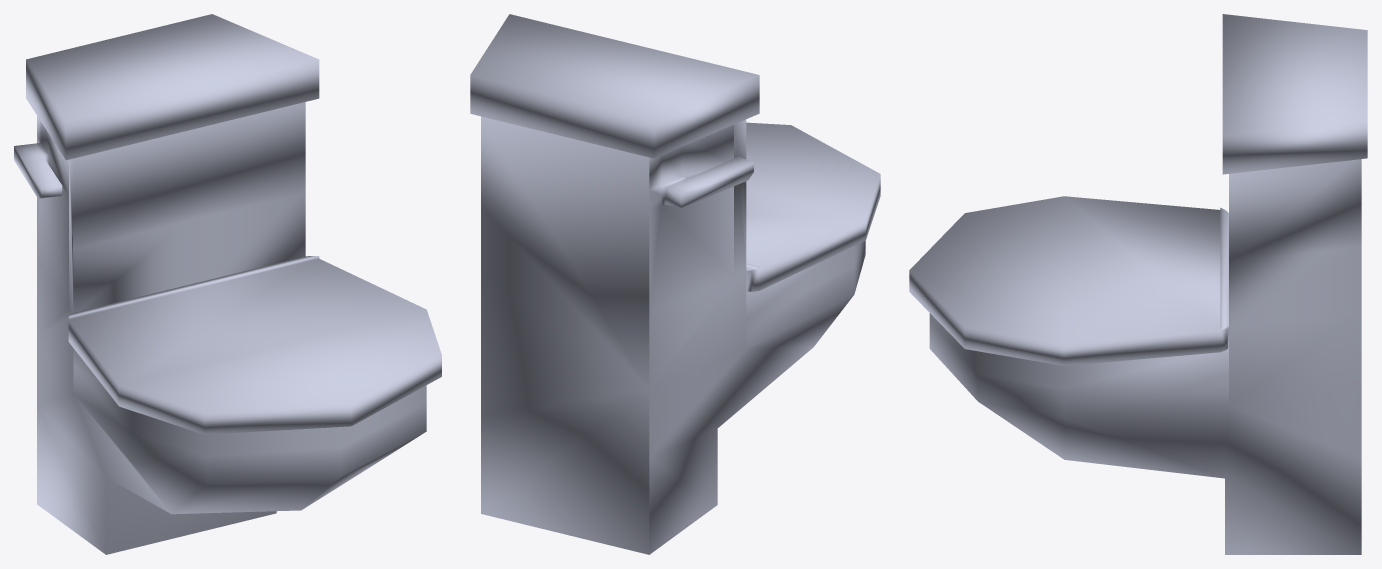
The model's file is Toilet.fbx.
The picture shows the model from 3 angles, left to right: view 1: azimuth 30°, elevation 25°; view 2: azimuth 150°, elevation 25°; view 3: azimuth 270°, elevation 25°; orthographic projection.
Visible parts, largest first — view 1: Cube; view 2: Cube; view 3: Cube.
Boxes of the visible parts, x1,y1,x2,y2 form: Cube: (14, 14, 441, 554); Cube: (470, 14, 880, 554); Cube: (909, 14, 1367, 554).
Size of the model in its own units: 361 by 498 by 471.
